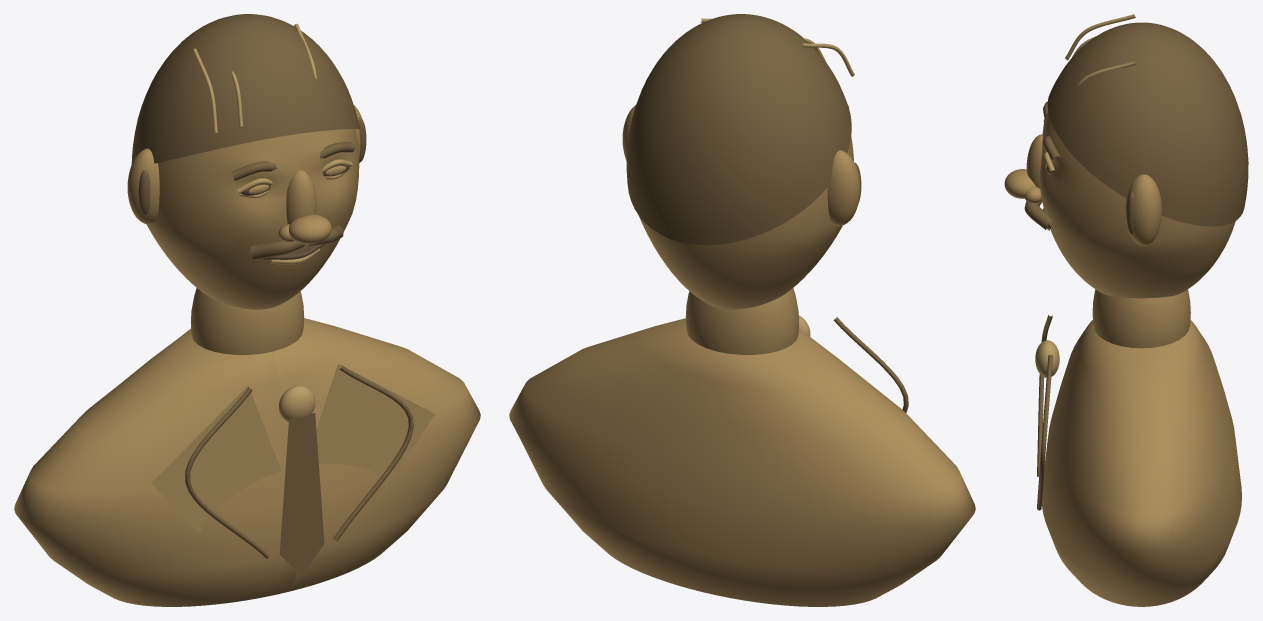
Rendered from delfim.glb.
3 views of the same model, side by side, from view 1: azimuth 30°, elevation 25°; view 2: azimuth 150°, elevation 25°; view 3: azimuth 270°, elevation 25° (orthographic). The views are drawn at different scales.
Visible parts, largest first — view 1: delfim; view 2: delfim; view 3: delfim.
Part boxes in pixels (x1,y1,x2,y2): delfim: (14, 14, 480, 606); delfim: (509, 14, 975, 606); delfim: (1004, 14, 1248, 606).
Size of the model in its own units: 1.22 by 1.38 by 0.5957.
